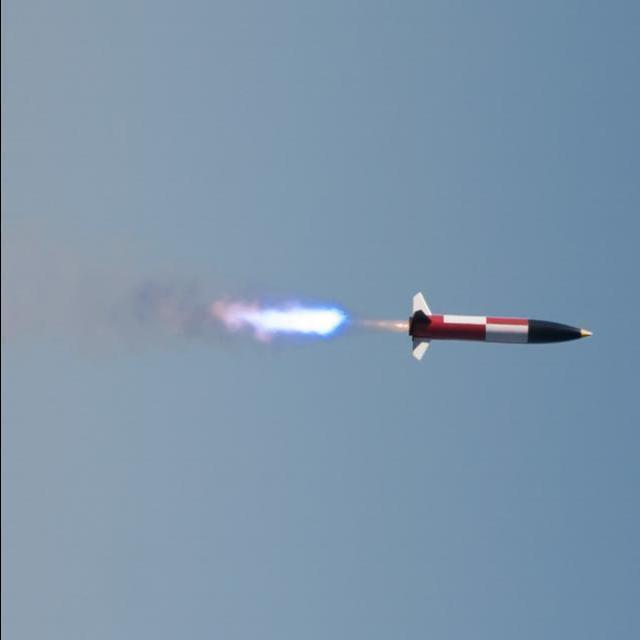missile: (405, 293, 594, 373)
